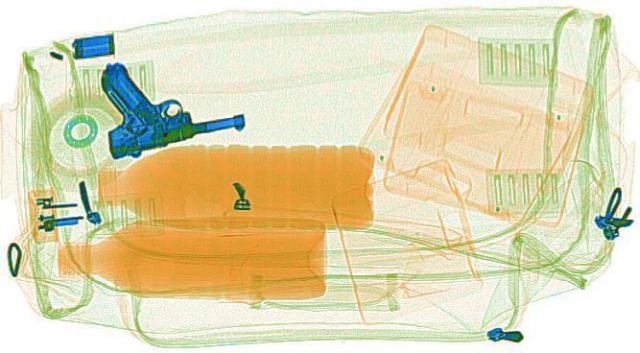Gun: (39, 46, 254, 159)
